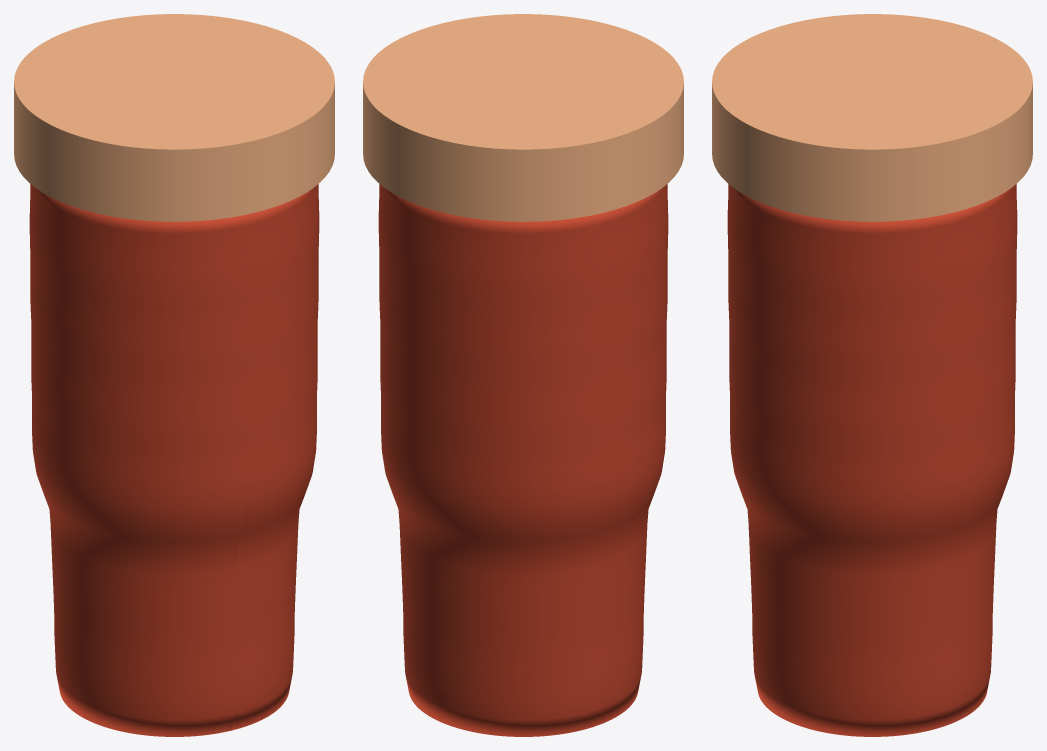
File: stanley-iceflow-30-bodyfit-v4.glb
3 views of the same model, side by side, from view 1: azimuth 30°, elevation 25°; view 2: azimuth 150°, elevation 25°; view 3: azimuth 270°, elevation 25° (orthographic).
Parts seen in each view (by area): view 1: body_mesh, rim_mesh; view 2: body_mesh, rim_mesh; view 3: body_mesh, rim_mesh.
Part boxes in pixels (x1=…): body_mesh: x1=29, y1=184, x2=319, y2=736; rim_mesh: x1=14, y1=14, x2=334, y2=221; body_mesh: x1=378, y1=184, x2=668, y2=736; rim_mesh: x1=363, y1=14, x2=683, y2=221; body_mesh: x1=727, y1=184, x2=1017, y2=736; rim_mesh: x1=712, y1=14, x2=1032, y2=221.
Size of the model in its own units: 88.52 by 185 by 88.52.
